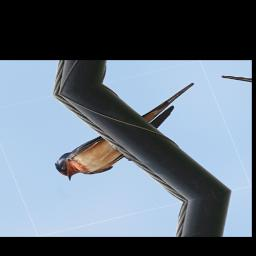Swallow: (35, 82, 220, 183)
